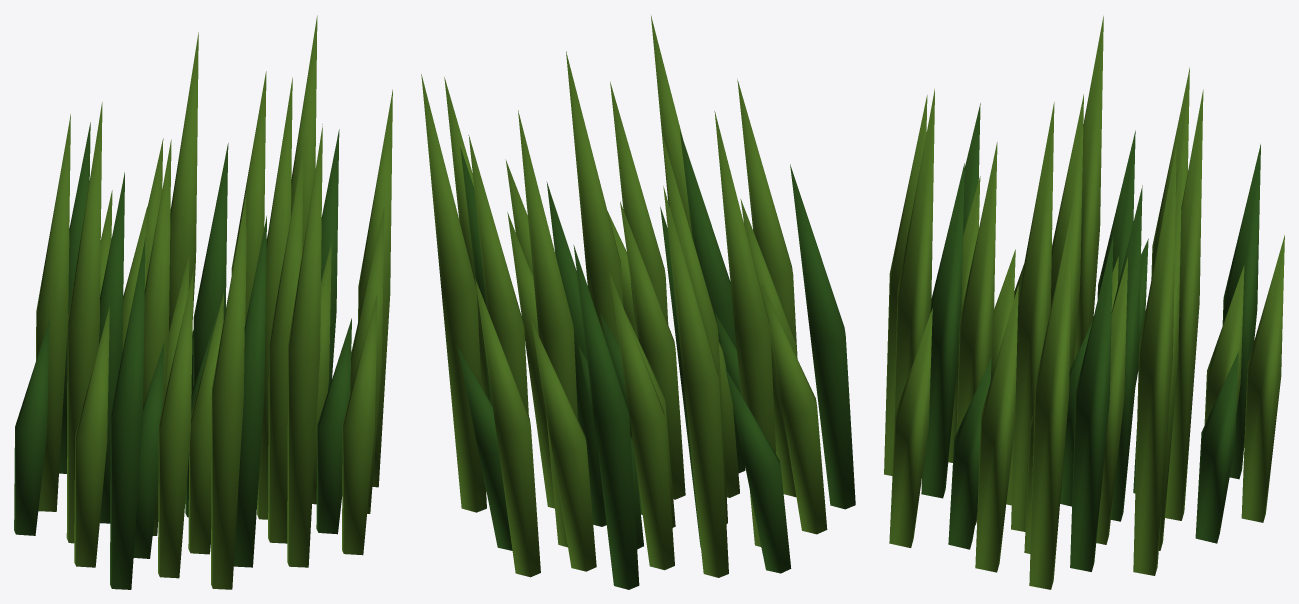
File: SM_shrub_LOD1.fbx
3 renders of one model, left to right at view 1: azimuth 30°, elevation 25°; view 2: azimuth 150°, elevation 25°; view 3: azimuth 270°, elevation 25°, orthographic. The views are drawn at different scales.
Visible parts, largest first — view 1: SM_shrub_LOD1; view 2: SM_shrub_LOD1; view 3: SM_shrub_LOD1.
Boxes of the visible parts, x1,y1,x2,y2 form: SM_shrub_LOD1: (14, 15, 392, 589); SM_shrub_LOD1: (421, 15, 855, 589); SM_shrub_LOD1: (884, 16, 1284, 589).
Bounding box in the file's own units: 0.5756 × 0.5284 × 0.6524.
